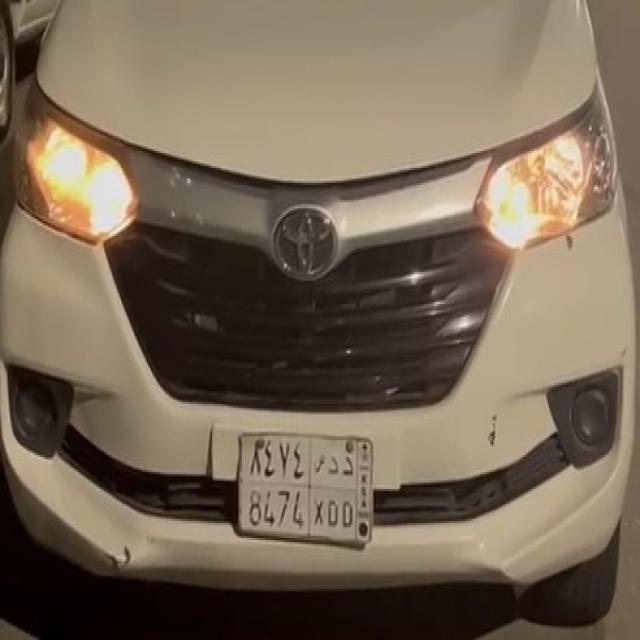Car-plate: (227, 421, 376, 550)
